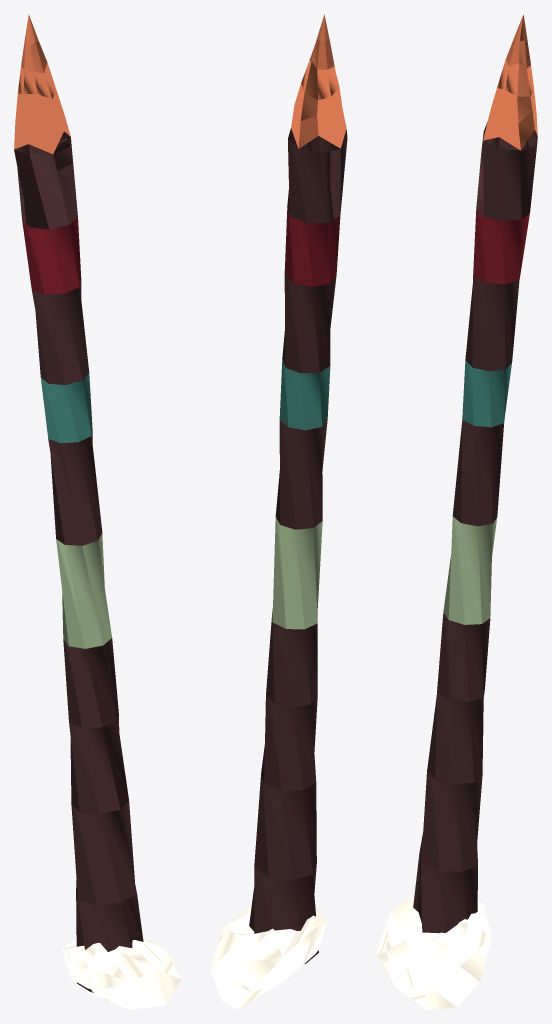
File: HuntsmanWoodspear2.fbx
The picture shows the model from 3 angles, left to right: view 1: azimuth 90°, elevation 25°; view 2: azimuth 210°, elevation 25°; view 3: azimuth 270°, elevation 25°; orthographic projection. The views are drawn at different scales.
Parts seen in each view (by area): view 1: Woodspear2; view 2: Woodspear2; view 3: Woodspear2.
Boxes of the visible parts, x1,y1,x2,y2 form: Woodspear2: (14, 14, 181, 1009); Woodspear2: (210, 14, 347, 1009); Woodspear2: (376, 14, 537, 1009).
Bounding box in the file's own units: 93.16 × 844 × 127.
